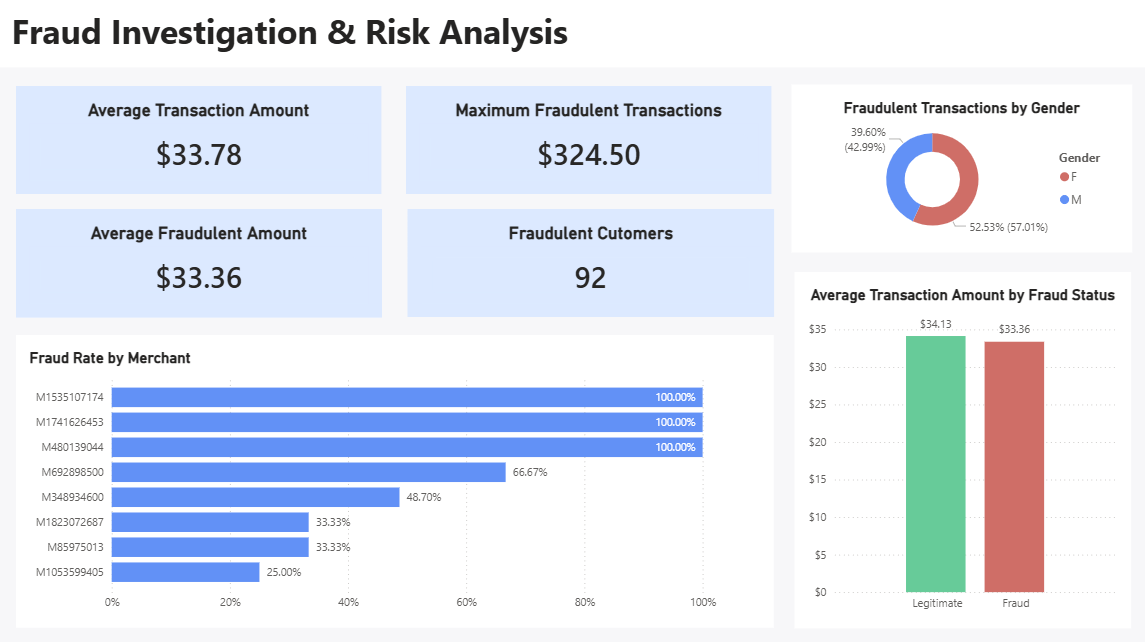

The dashboard page shown, as its layout file describes it:
{"tool":"powerbi","page":{"name":"Fraud Investigation & Risk Analysis","canvas":[1280,720],"ordinal":1},"visuals":[{"type":"textbox","box":[0,0,1279.3,75.9],"z":0},{"type":"cardVisual","title":"Maximum Fraudulent Transactions","fields":{"Data":["Transactions.Maximum Fraudulent Amount"]},"box":[454,96,406,120],"z":1000},{"type":"clusteredBarChart","title":"Fraud Rate by Merchant","fields":{"Category":["Transactions.merchant"],"Y":["Transactions.Fraud Rate"]},"box":[20,373.3,841.7,325],"z":2000},{"type":"donutChart","title":"Fraudulent Transactions by Gender","fields":{"Category":["Transactions.gender"],"Y":["Transactions.Fraud Rate"]},"box":[881.7,95,378.3,186.7],"z":3000},{"type":"clusteredColumnChart","fields":{"Category":["Transactions.Fraud Status"],"Y":["Transactions.Average Transaction Amount"]},"box":[885.7,302.9,374.3,395.7],"z":4000},{"type":"cardVisual","title":"Average Transaction Amount","fields":{"Data":["Transactions.Average Transaction Amount"]},"box":[20,96,406,120],"z":5000},{"type":"cardVisual","title":"Average Fraudulent Amount","fields":{"Data":["Transactions.Average Fraudulent Transaction"]},"box":[20,232.5,406.7,120.8],"z":6000},{"type":"cardVisual","title":"Fraudulent Cutomers","fields":{"Data":["Transactions.Fraudulent Customers"]},"box":[454.2,233.3,407.5,120],"z":7000}]}

Visuals, with their boxes in screenshot pixels (x1, y1, x2, y2), scaled from the page's 1280x720 canvas onto the 1145x642 screenshot:
textbox: (x1=0, y1=0, x2=1144, y2=68)
"Maximum Fraudulent Transactions" cardVisual: (x1=406, y1=86, x2=769, y2=193)
"Fraud Rate by Merchant" clusteredBarChart: (x1=18, y1=333, x2=771, y2=623)
"Fraudulent Transactions by Gender" donutChart: (x1=789, y1=85, x2=1127, y2=251)
clusteredColumnChart - Transactions.Fraud Status x Transactions.Average Transaction Amount: (x1=792, y1=270, x2=1127, y2=623)
"Average Transaction Amount" cardVisual: (x1=18, y1=86, x2=381, y2=193)
"Average Fraudulent Amount" cardVisual: (x1=18, y1=207, x2=382, y2=315)
"Fraudulent Cutomers" cardVisual: (x1=406, y1=208, x2=771, y2=315)
